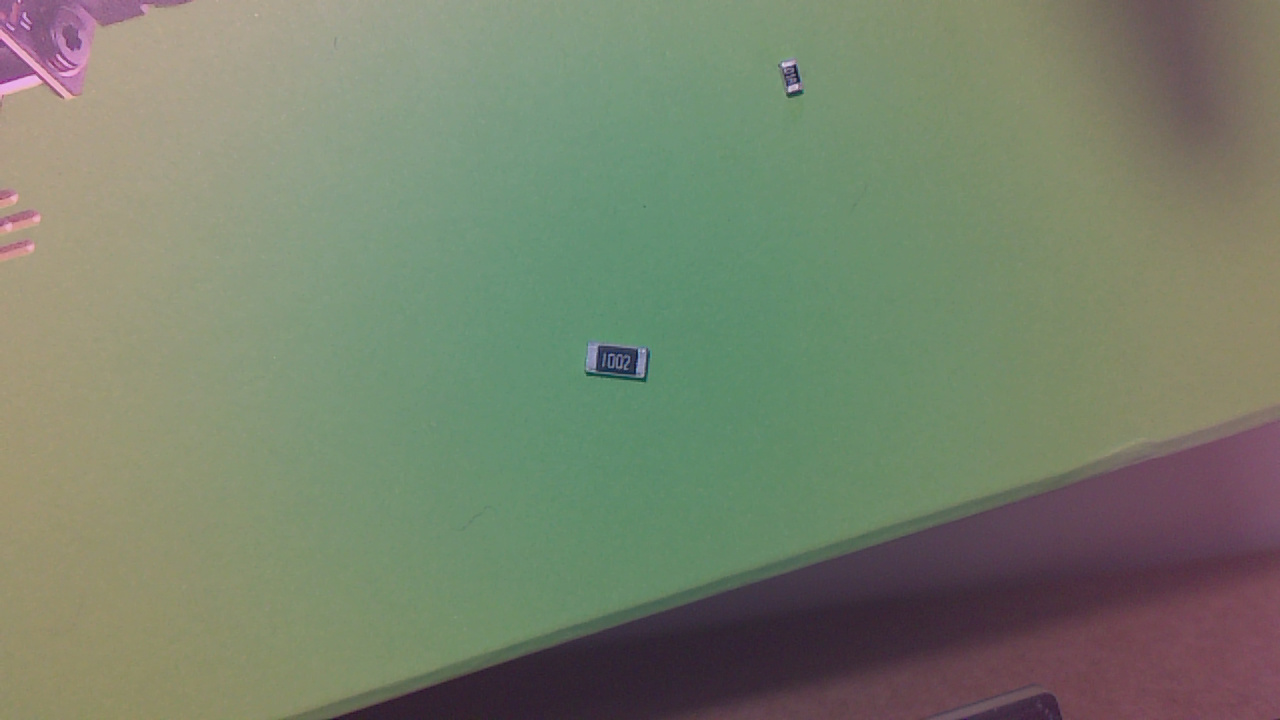Resistor: (588, 349, 655, 388), (782, 63, 811, 103)
